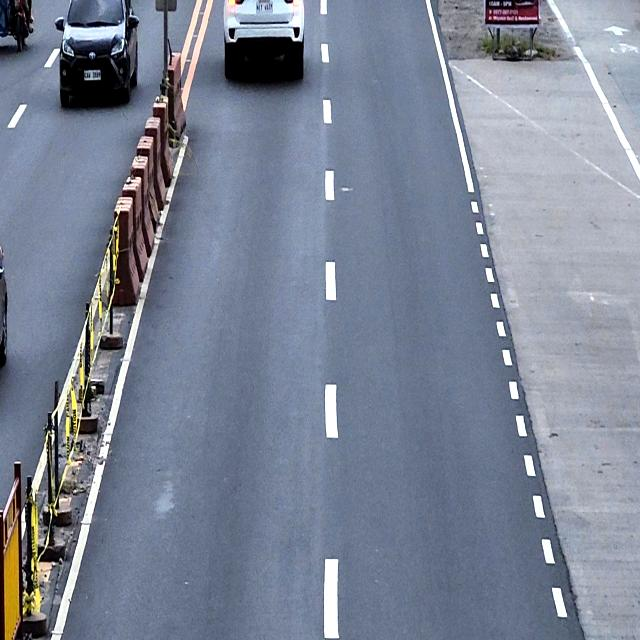Car: (54, 0, 140, 107), (222, 0, 305, 79)
License-Plate: (255, 0, 273, 14), (83, 70, 103, 81)
Tricycle: (0, 0, 34, 52)
